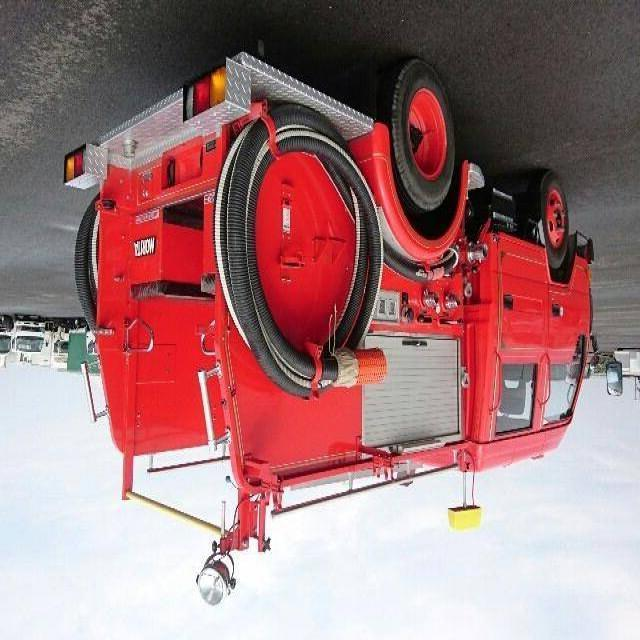truck: (64, 49, 626, 616)
